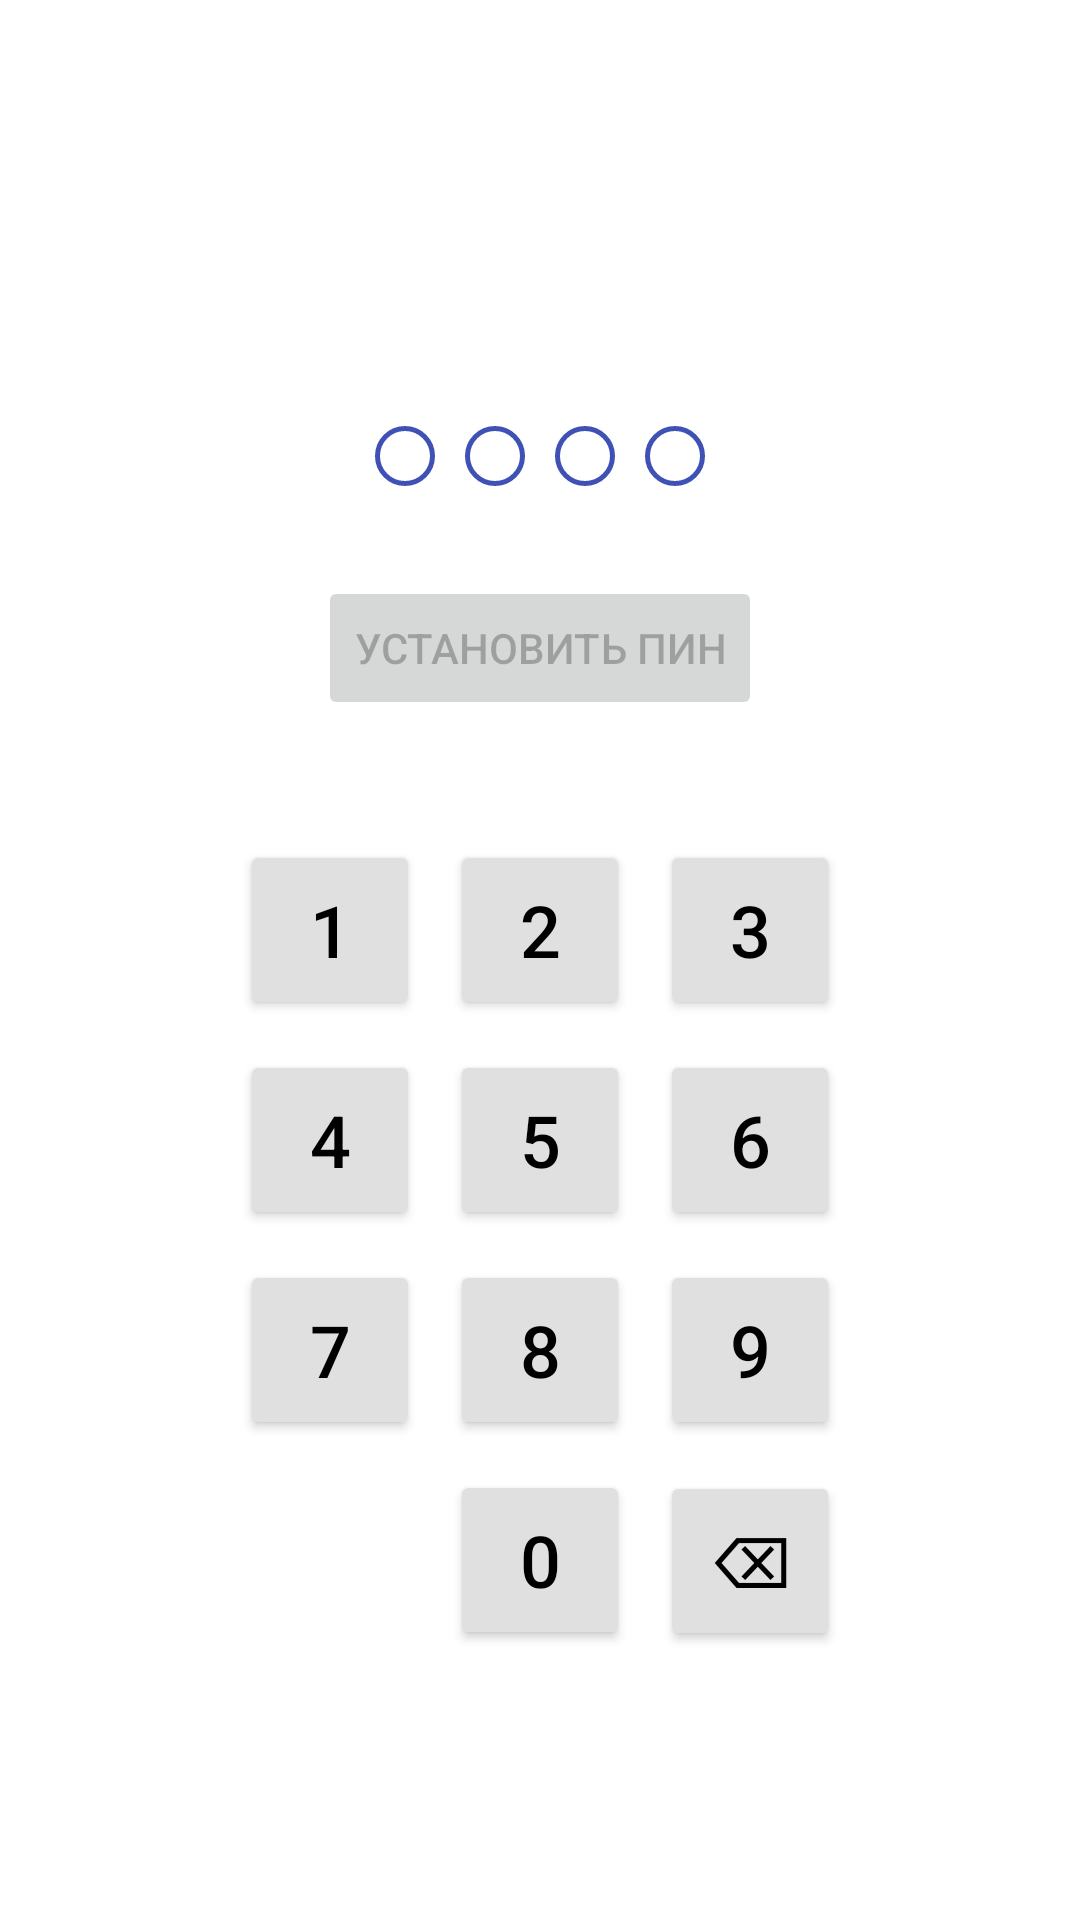

Named icons in this screenshot (1080x1920) and their centers, (x=x, y=y):
circle pin: (x=405, y=456), (x=495, y=456), (x=585, y=456), (x=675, y=456)
